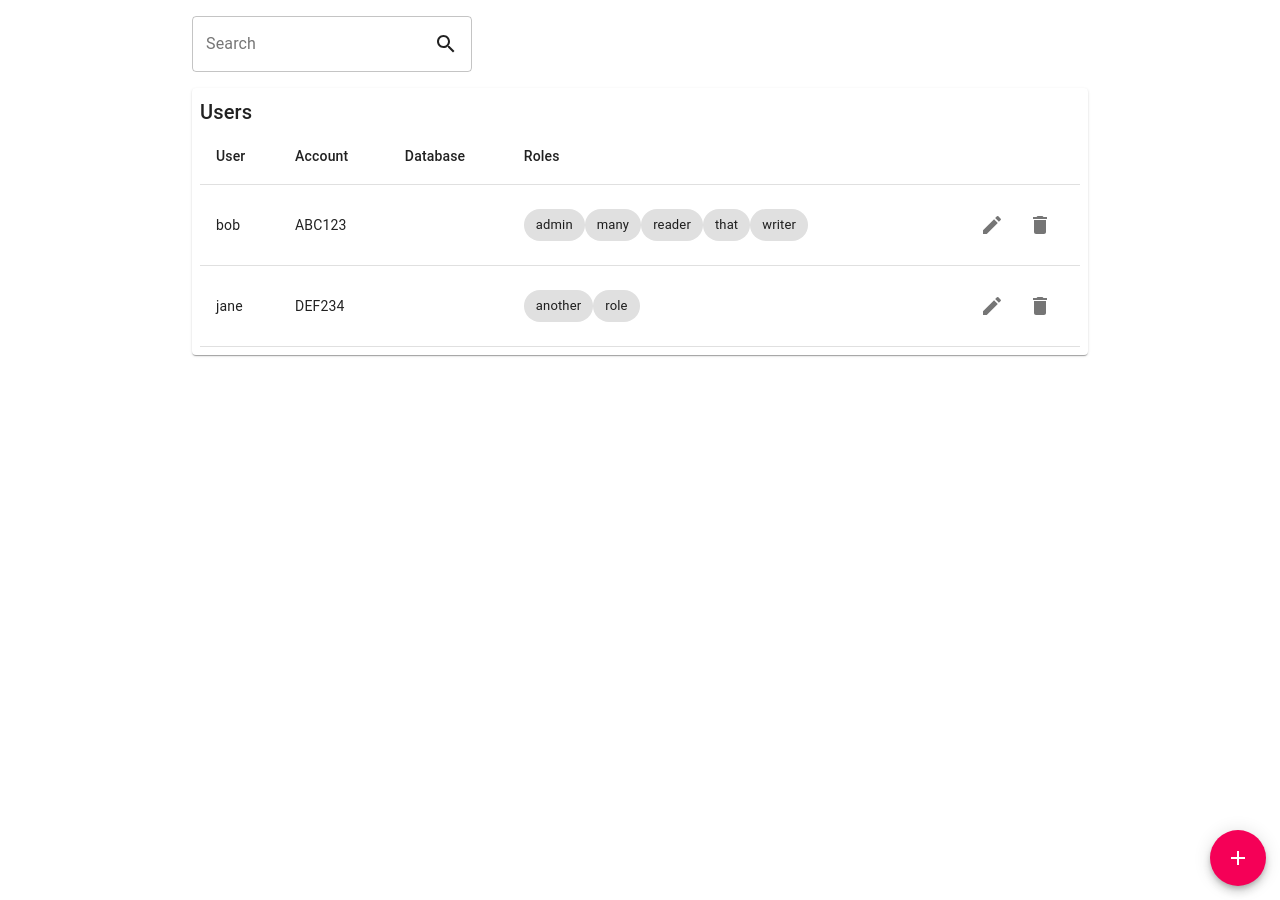
Test: Home page › deletes a user
The image size is (1280, 900).
Click the button named "delete" in the row of "bob". click: (1040, 225)
box: top-left (1016, 201), bottom-right (1064, 249)
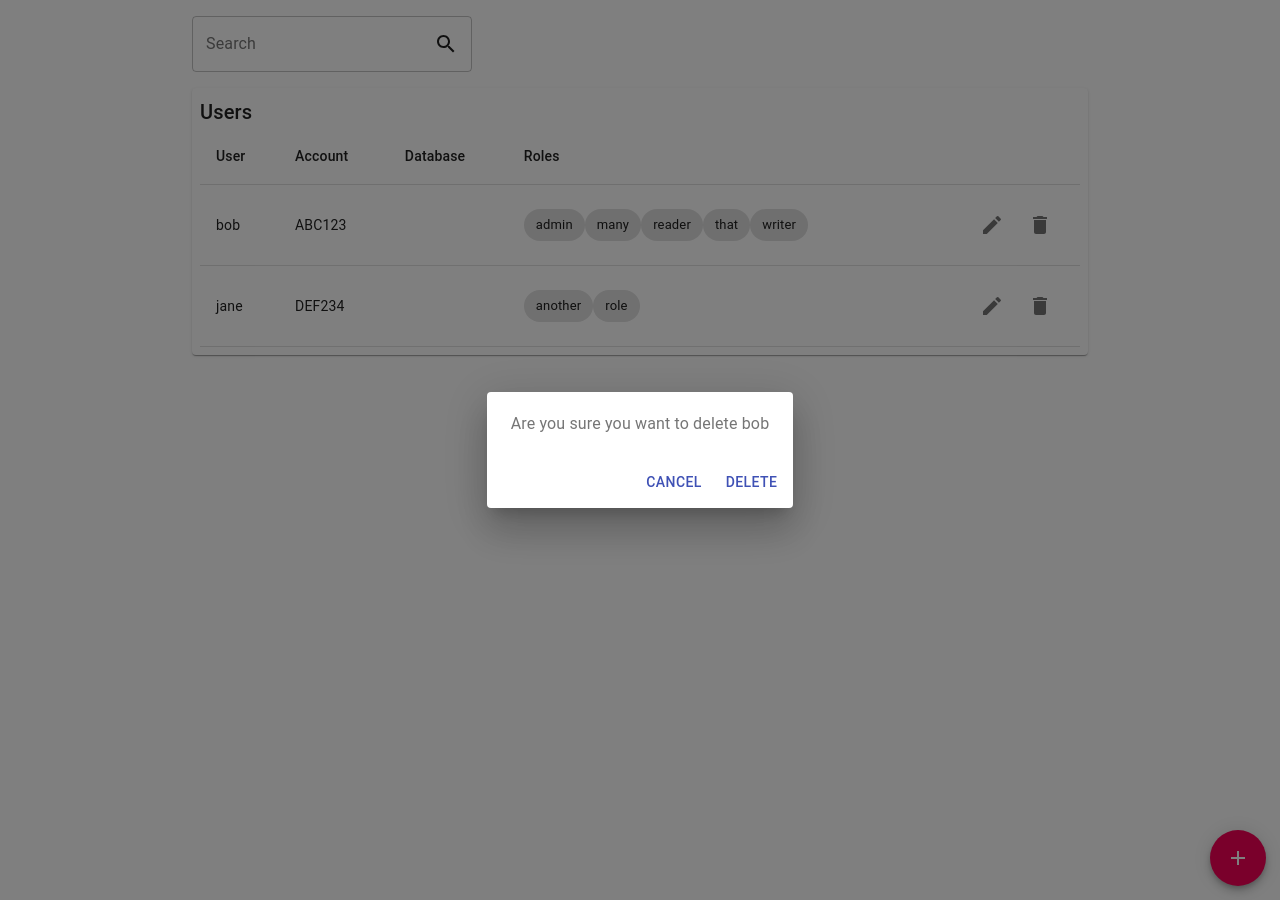
expect the button with aria-label "confirm delete" is shown: met
Click the button with aria-label "confirm delete". click: (752, 482)
box: top-left (718, 464), bottom-right (785, 500)
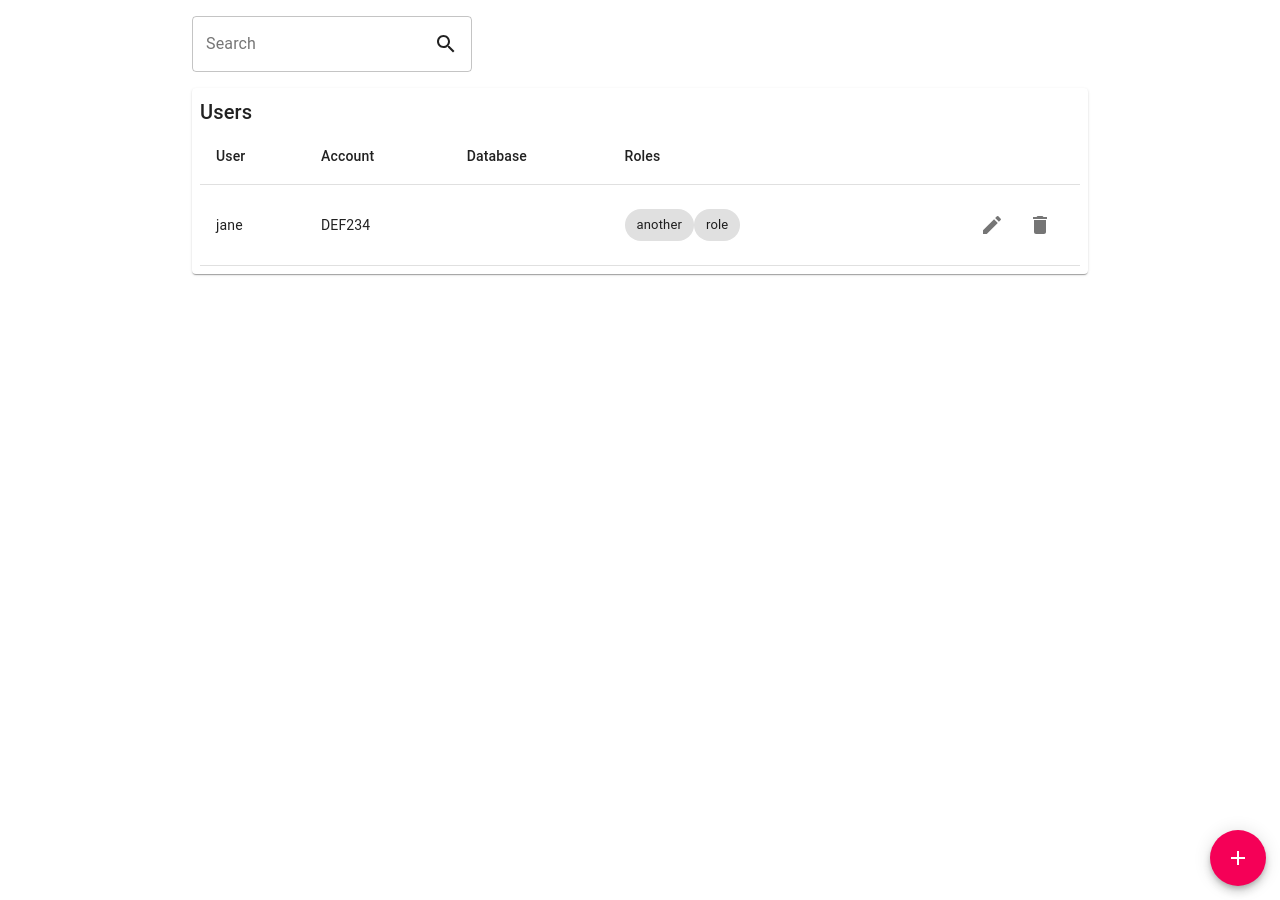
expect the text "bob" is gone: met
